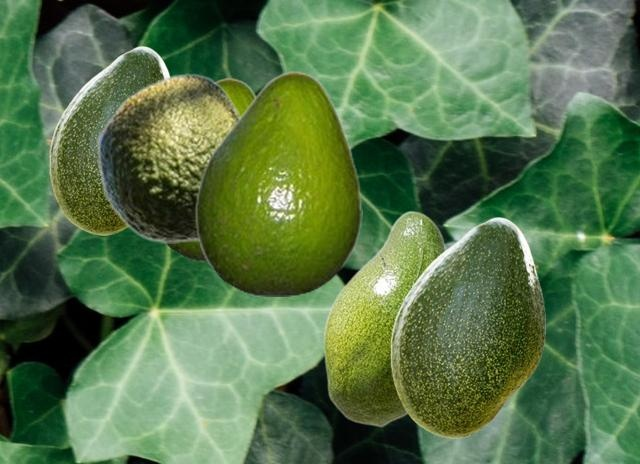avocado: (194, 70, 361, 295), (390, 217, 544, 437), (323, 210, 446, 426), (96, 73, 242, 242), (49, 46, 170, 234), (162, 77, 255, 260)
